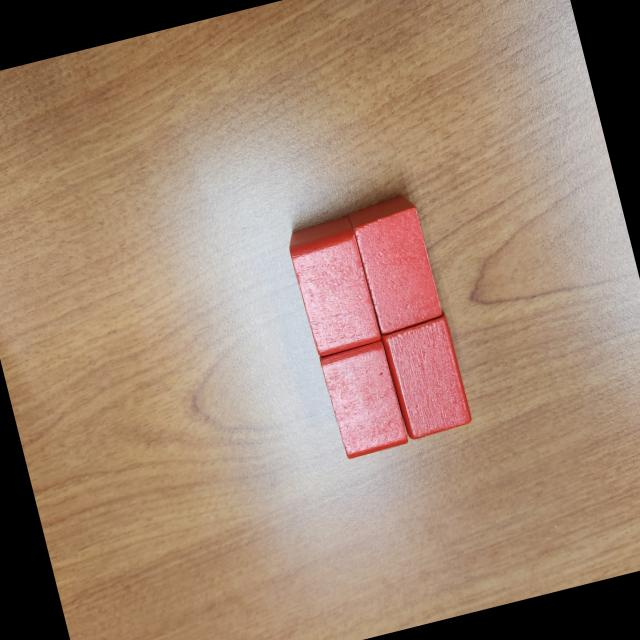red: (342, 191, 444, 337), (284, 215, 382, 360), (378, 307, 474, 442), (318, 338, 411, 460)
